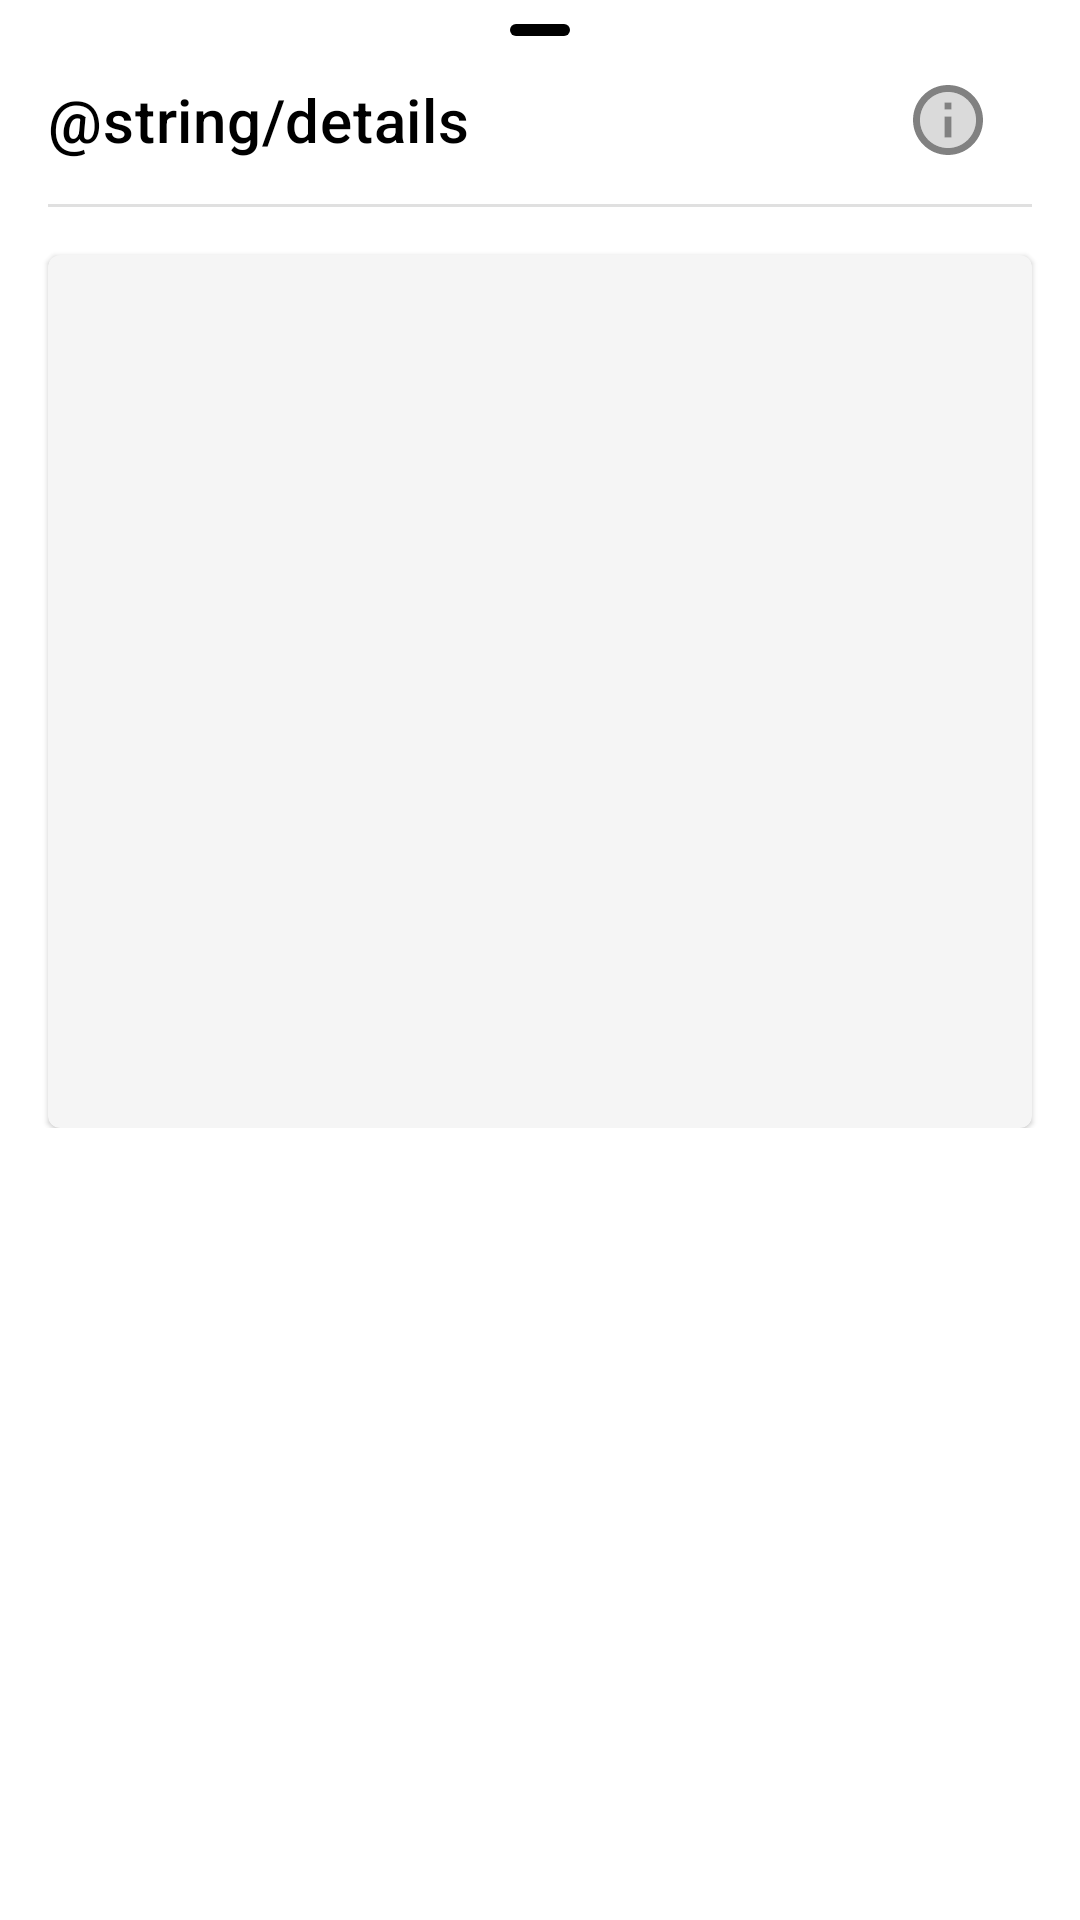

Icons on this 1080w x 1920h Android screen, each with its box as box=[x1, y1, x2, y2]:
info: box=[913, 85, 983, 155]
